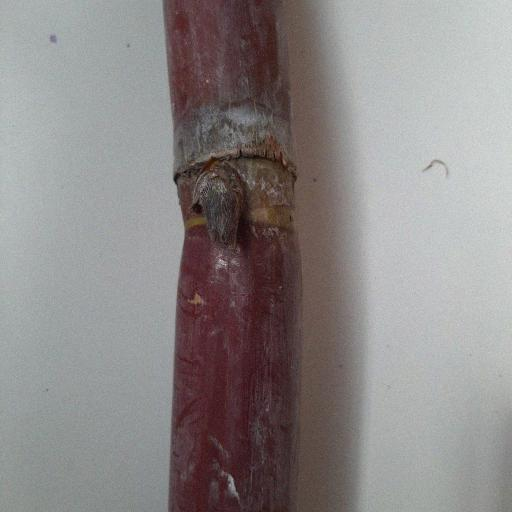Bud: (194, 167, 245, 247)
